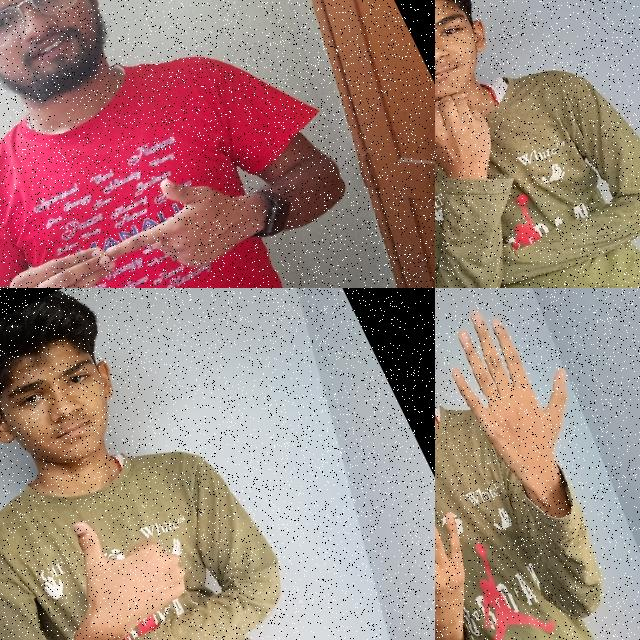Chin Flick: (435, 0, 549, 197)
Five Fathers: (0, 138, 274, 288)
Moutza: (435, 288, 606, 503), (435, 469, 505, 640)
Thumbs Up: (32, 479, 230, 640)
